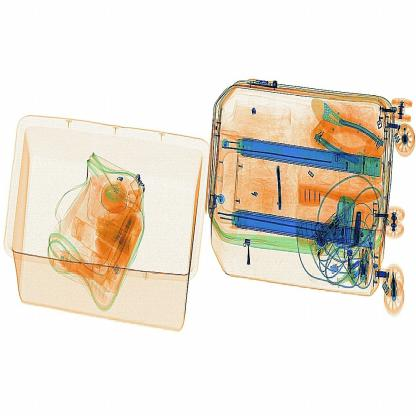knife: (259, 161, 294, 221)
